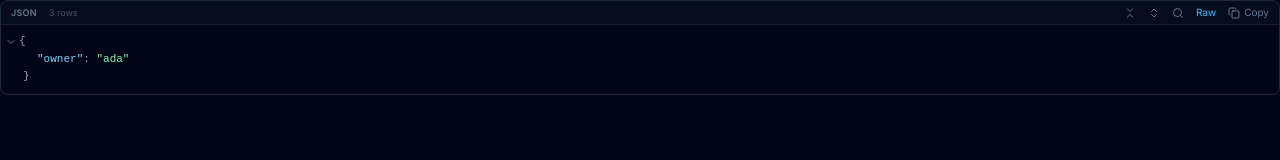
ValueView: find › says so when nothing matches
Click the button titled "Find in this value" at (1178, 12), box left=1172, top=6, right=1184, bottom=18
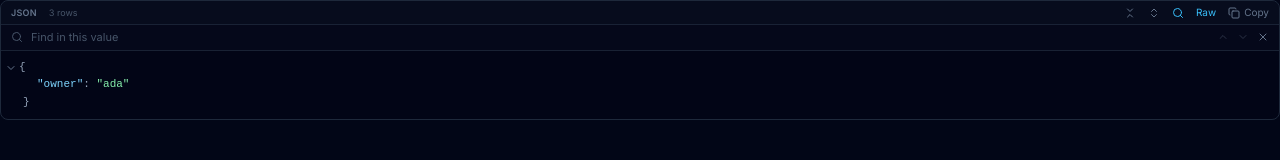
Type "zzz" into the field labelled "Find in this value" at (616, 37), box left=31, top=29, right=1201, bottom=46
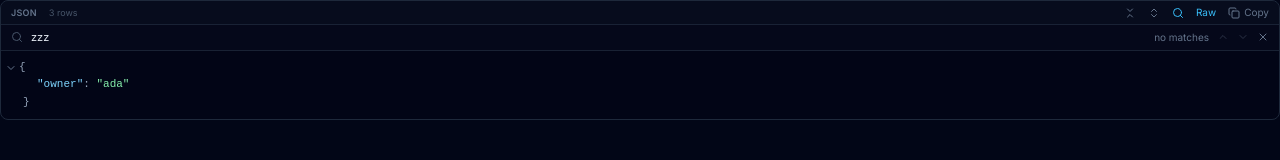
Expected: the text "no matches" is shown, left=1154, top=30, right=1209, bottom=45
